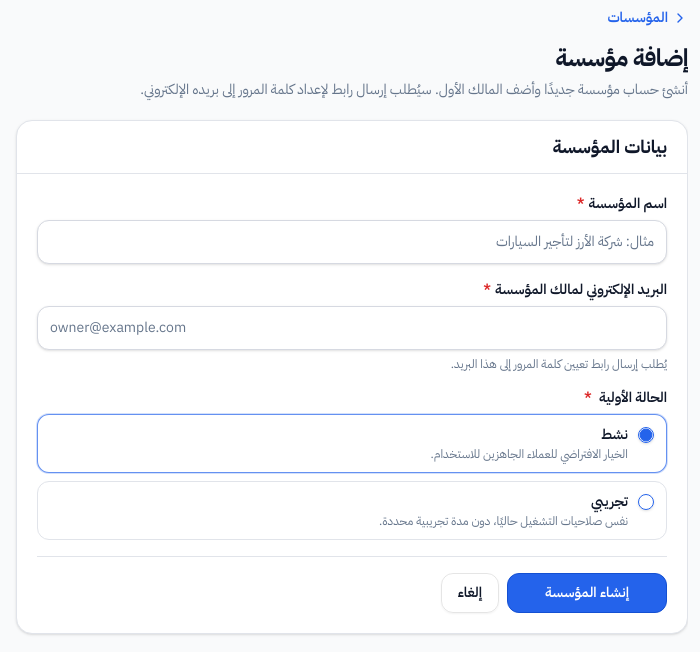
Test case: PlatformCreateOrganizationPage › rejects the invalid email not-an-email
Type "مؤسسة الاختبار" into the field labelled "اسم المؤسسة*" at (352, 242), box [37,220,667,264]
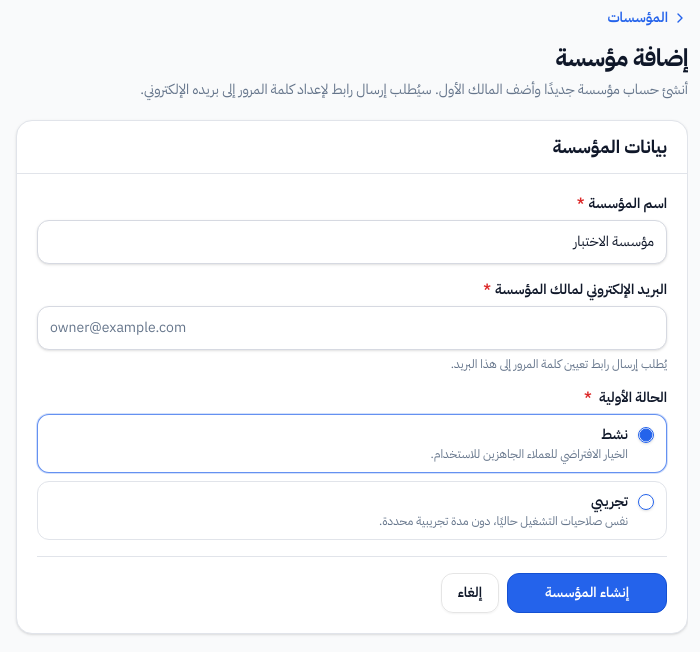
Type "not-an-email" into the field labelled "البريد الإلكتروني لمالك المؤسسة*" at (352, 328), box [37,306,667,350]
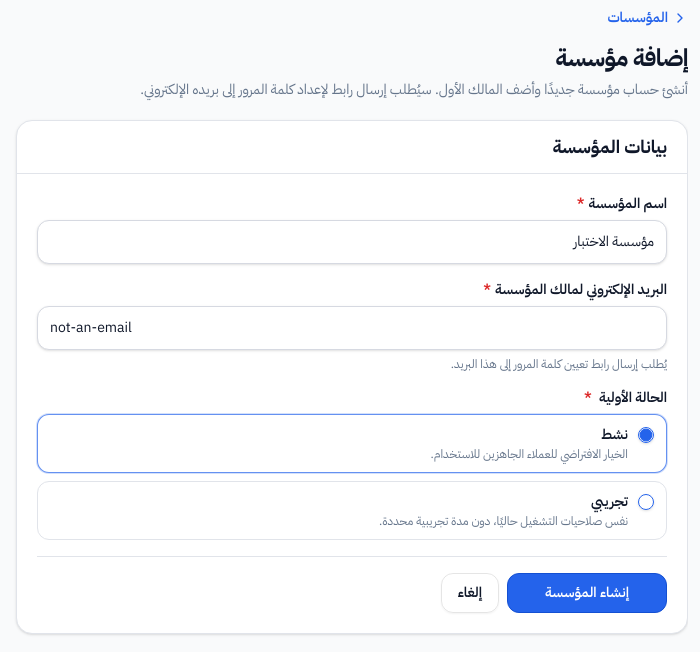
Click the button "إنشاء المؤسسة" at (587, 593), box [507,573,667,613]
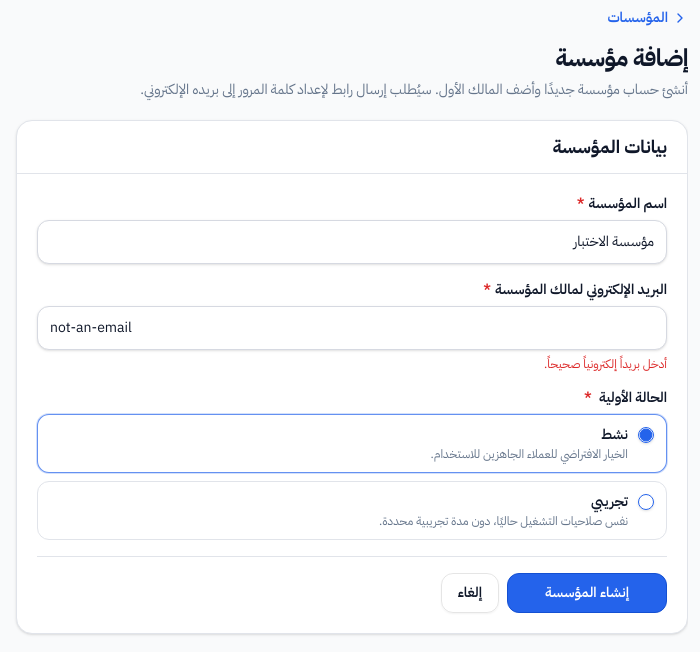
Check: the text "أدخل بريداً إلكترونياً صحيحاً." is shown, box [544,355,667,373]
